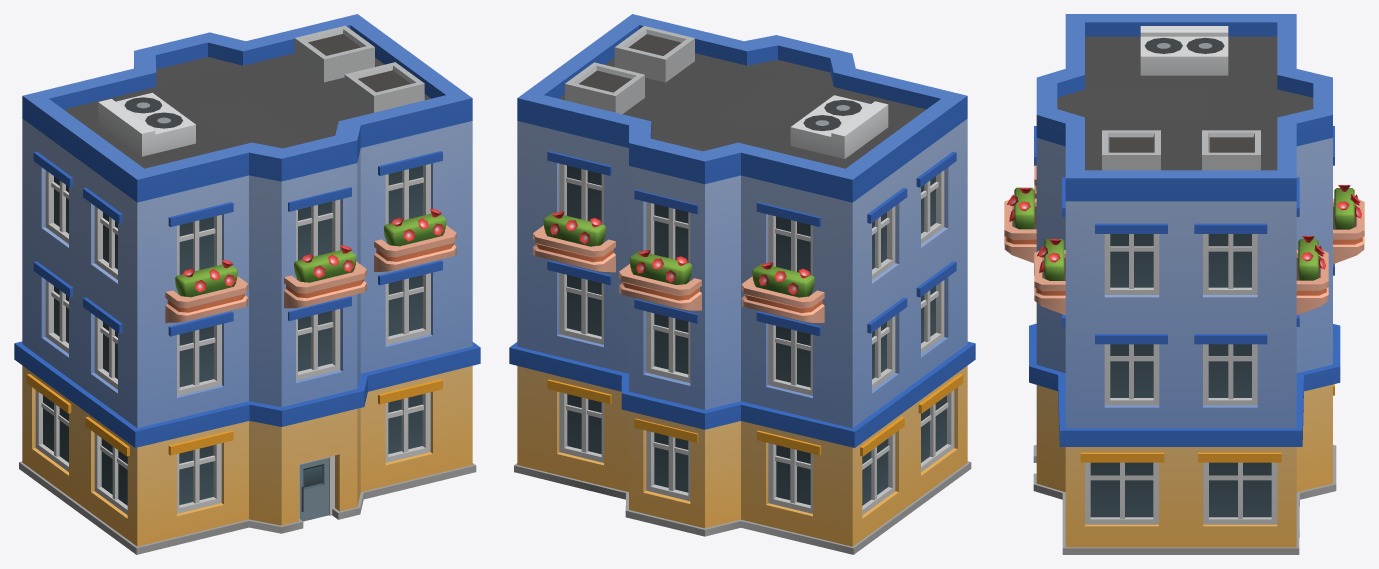
The model's file is residental_building_006.glb.
3 renders of one model, left to right at view 1: azimuth 30°, elevation 25°; view 2: azimuth 150°, elevation 25°; view 3: azimuth 270°, elevation 25°, orthographic.
Visible parts, largest first — view 1: residental_building_006; view 2: residental_building_006; view 3: residental_building_006.
Boxes of the visible parts, bbox=[...] form: residental_building_006: bbox=[14, 14, 480, 554]; residental_building_006: bbox=[509, 14, 975, 554]; residental_building_006: bbox=[1004, 14, 1364, 554].
Bounding box in the file's own units: 13.59 × 14.37 × 12.2.
1 material, 1 textured.
